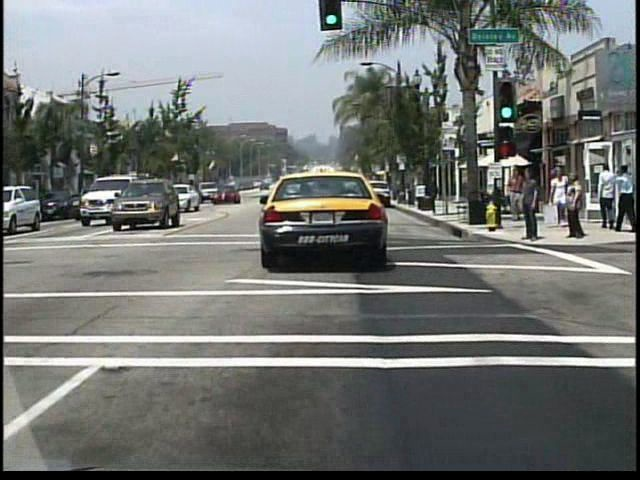person: (608, 166, 634, 234), (522, 167, 542, 242), (568, 172, 588, 240), (594, 161, 613, 230), (547, 167, 568, 228), (506, 170, 525, 222)
